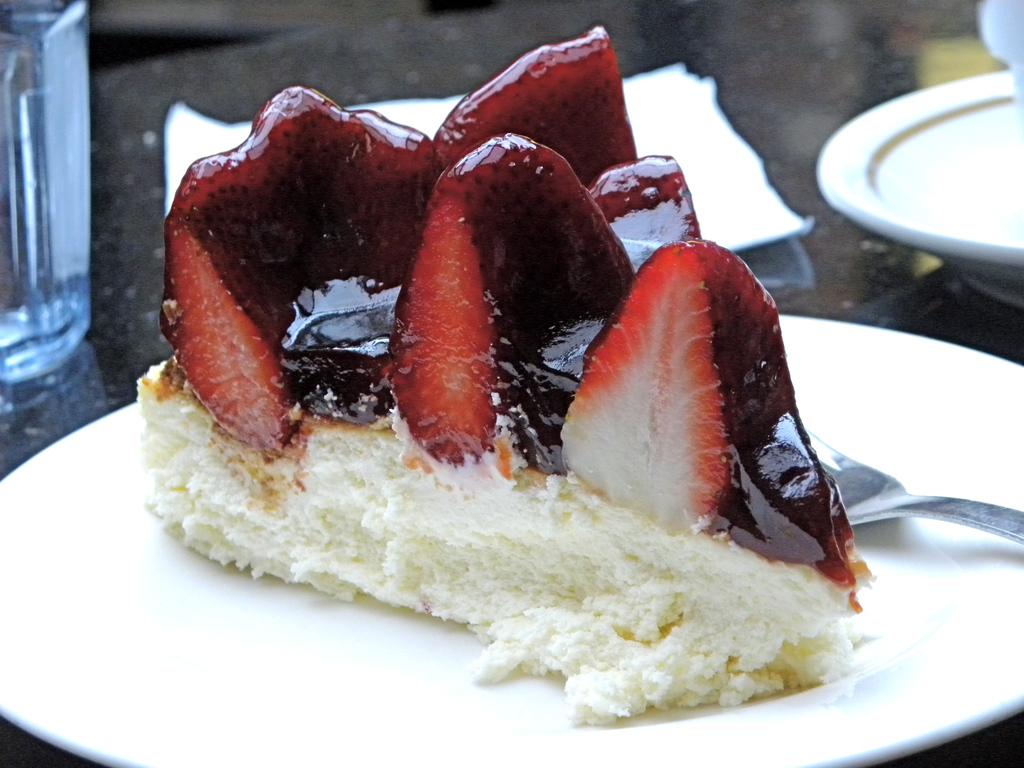plate: (828, 60, 1023, 307)
